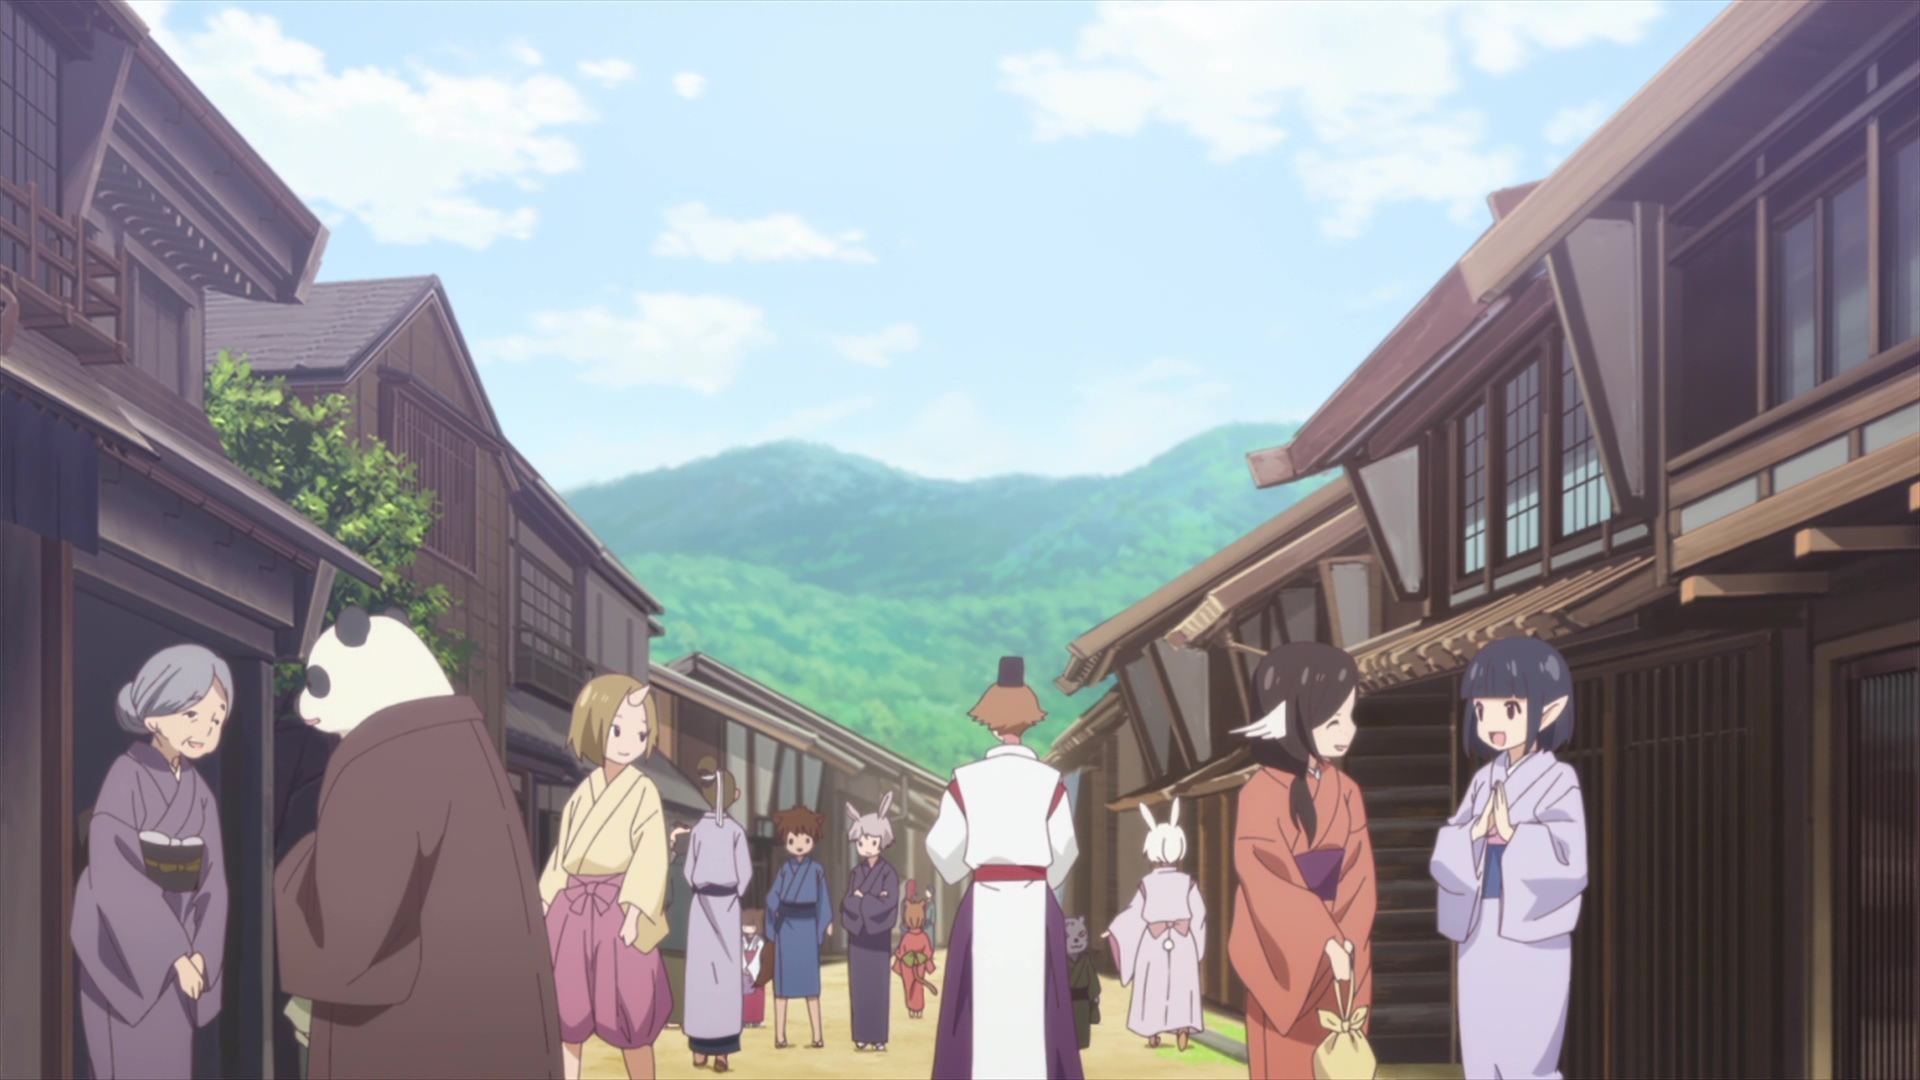其他: (270, 601, 562, 1080), (73, 641, 232, 1080), (1429, 640, 1586, 1080), (1228, 641, 1379, 1080), (926, 655, 1080, 1080), (542, 674, 673, 1080), (1102, 800, 1208, 1048), (684, 757, 752, 1071), (764, 804, 833, 1048), (840, 790, 895, 1050), (1064, 915, 1101, 1054), (897, 902, 938, 1017), (742, 913, 764, 1027)
